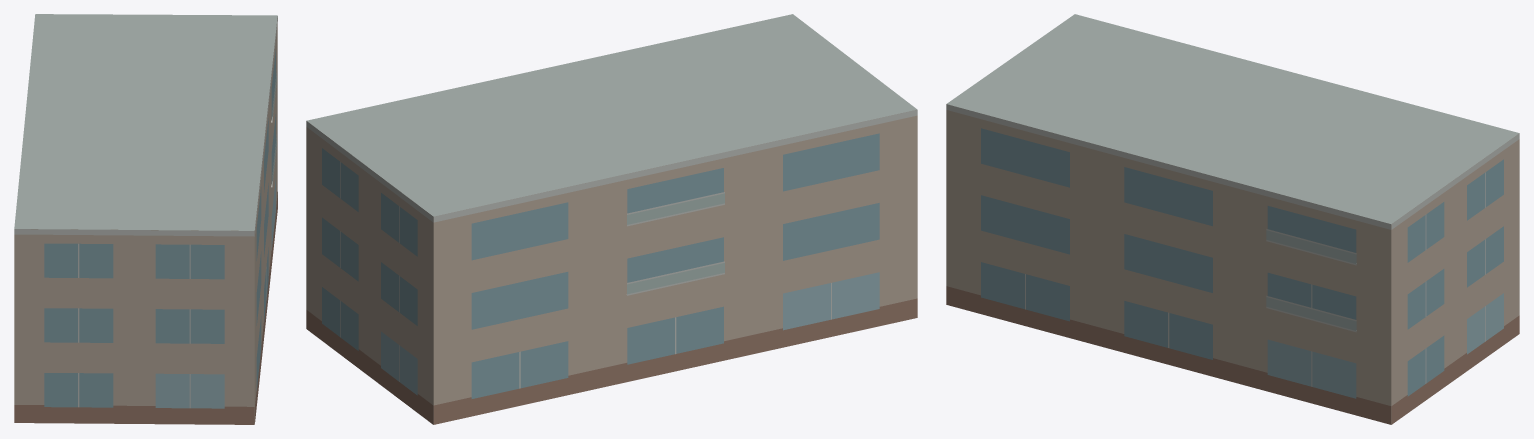
Rendered from survey-upis-32854221.glb.
The picture shows the model from 3 angles, left to right: view 1: azimuth 30°, elevation 25°; view 2: azimuth 150°, elevation 25°; view 3: azimuth 270°, elevation 25°; orthographic projection. The views are drawn at different scales.
Visible parts, largest first — view 1: survey-upis-32854221.tmp; view 2: survey-upis-32854221.tmp; view 3: survey-upis-32854221.tmp.
Boxes of the visible parts, bbox=[...] form: survey-upis-32854221.tmp: bbox=[14, 14, 277, 424]; survey-upis-32854221.tmp: bbox=[306, 14, 917, 424]; survey-upis-32854221.tmp: bbox=[946, 14, 1519, 424].
Size of the model in its own units: 19.11 by 8.5 by 22.02.
